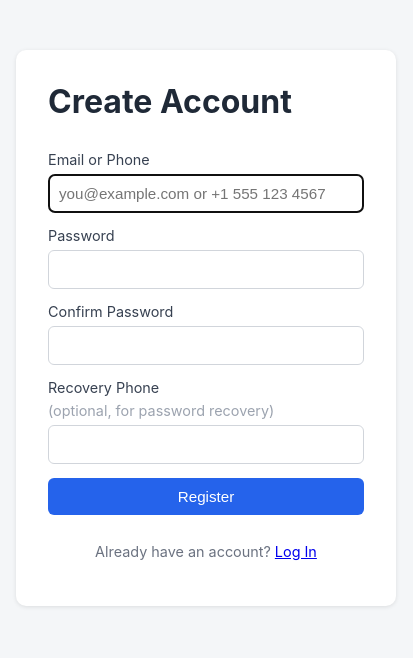
RegisterPage › shows a server error message (e.g. duplicate account) when registration fails
This screenshot has width=413, height=658.
In the field labelled "Email or Phone": (206,193) x1=48 y1=174 x2=364 y2=213, type "jane@example.com"
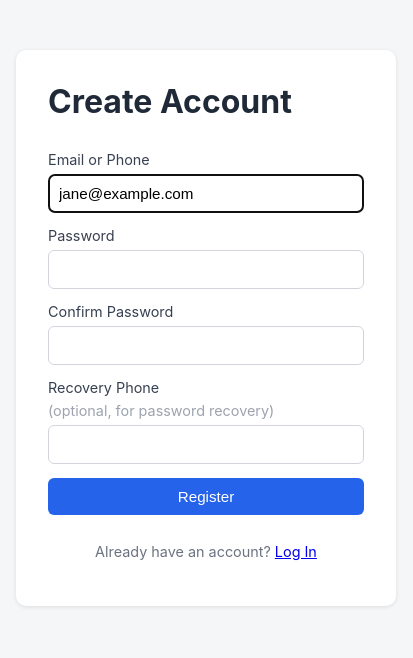
In the password field labelled "Password": (206,269) x1=48 y1=250 x2=364 y2=289, type "password123"
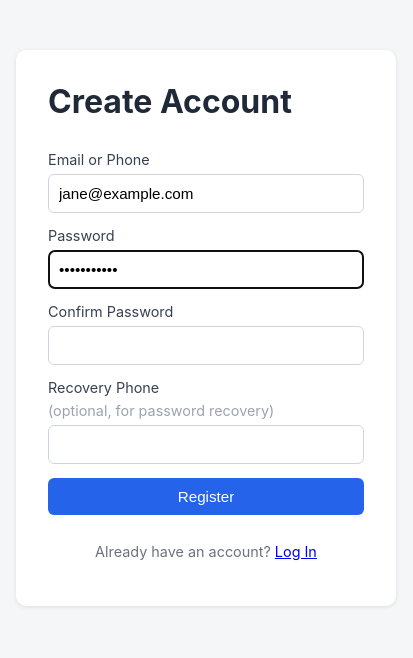
In the password field labelled "Confirm Password": (206,345) x1=48 y1=326 x2=364 y2=365, type "password123"
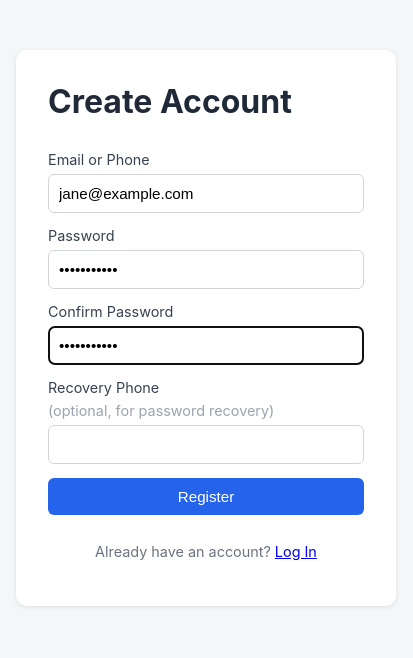
Click the button "Register": (206,496) x1=48 y1=478 x2=364 y2=515
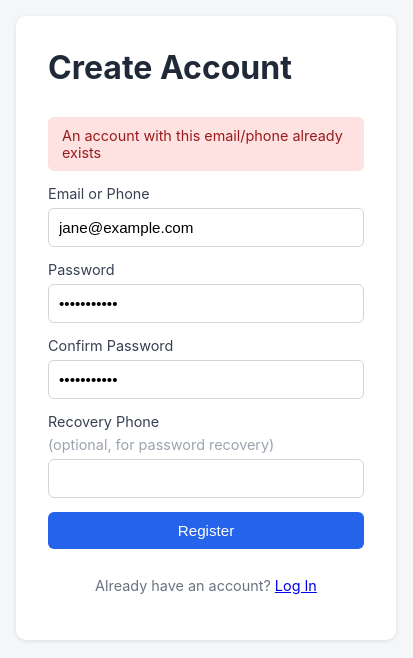
Expected: the text "An account with this email/phone already exists" is shown, x1=48 y1=117 x2=364 y2=171
